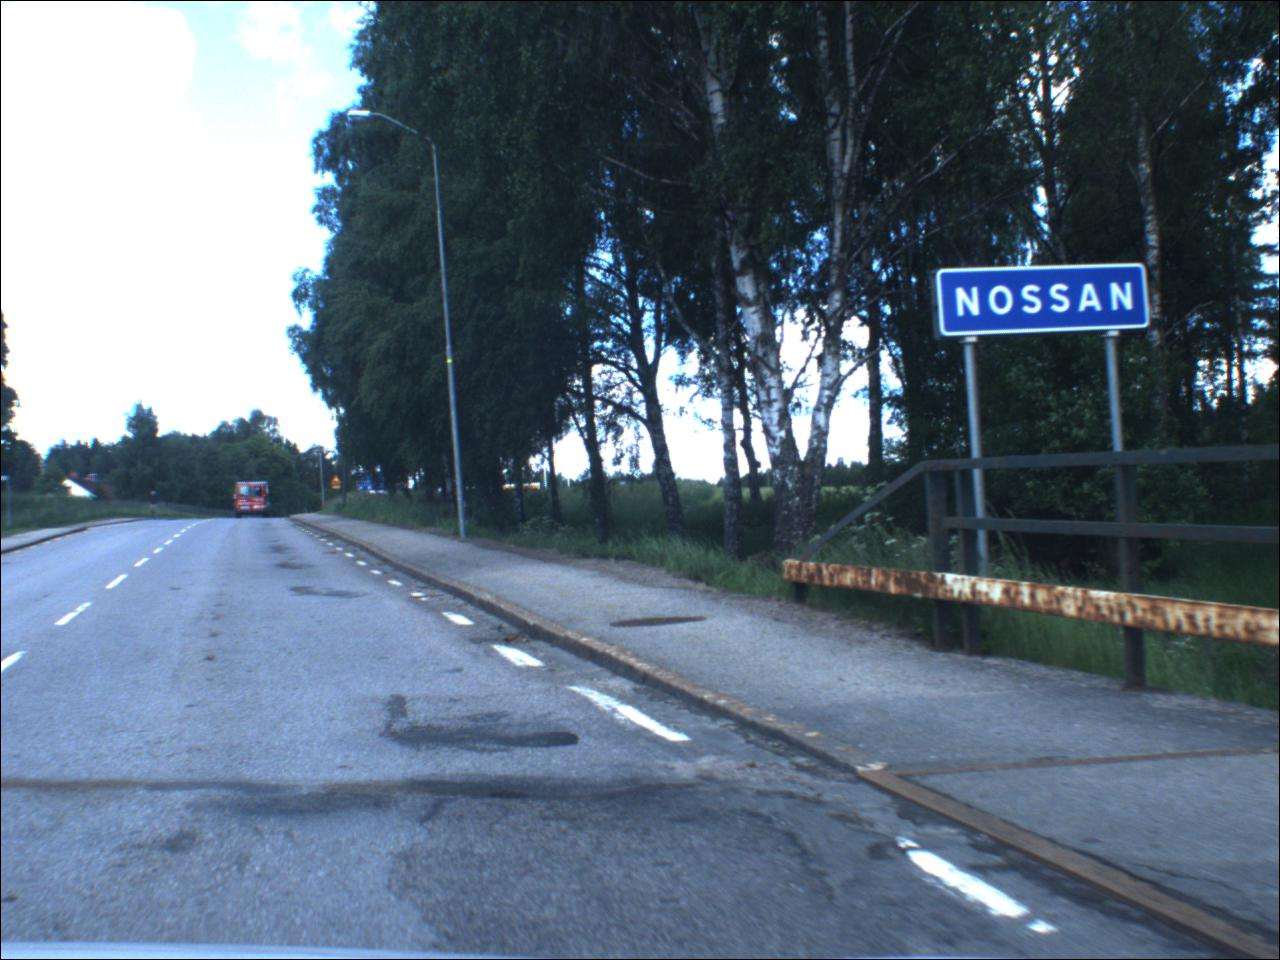WARNING_BAD_ROAD: (332, 477, 344, 487)
